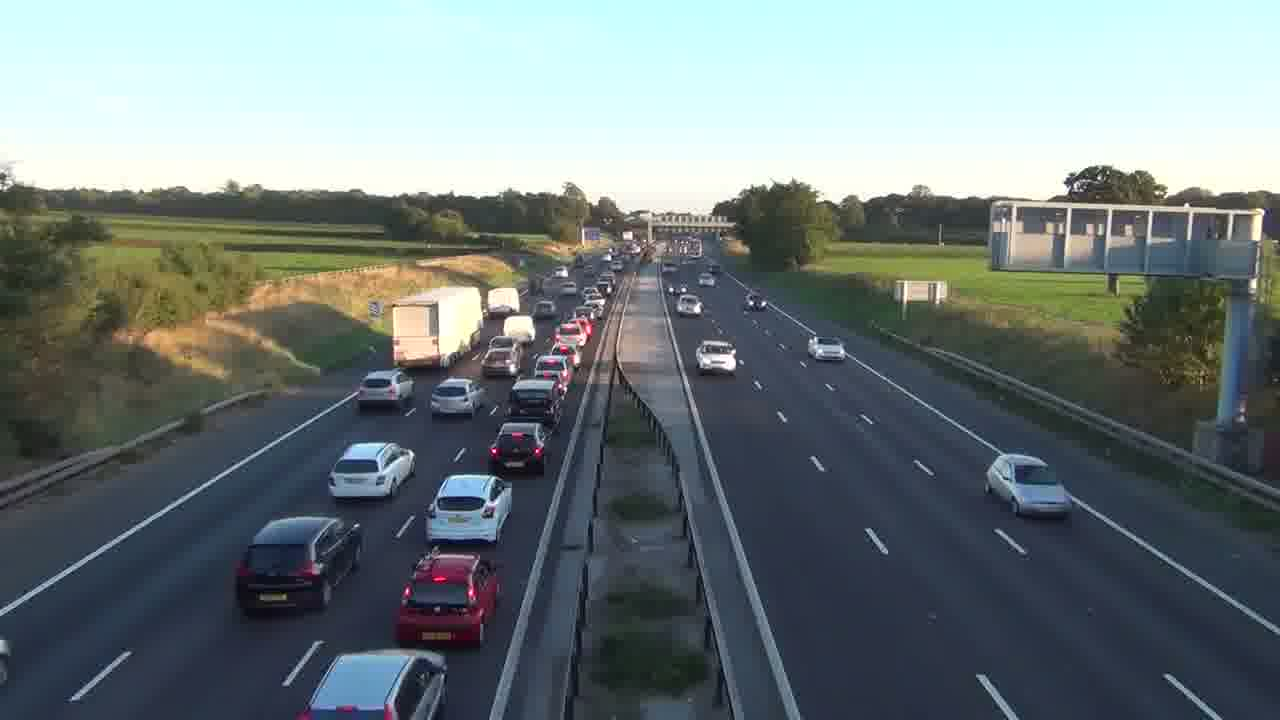car: (234, 514, 364, 615), (295, 649, 449, 719), (391, 552, 500, 648), (423, 472, 514, 545), (985, 452, 1074, 520), (327, 440, 416, 500), (488, 421, 547, 475), (356, 368, 416, 412), (430, 377, 484, 419), (808, 337, 847, 362)
truck: (391, 285, 483, 369), (487, 287, 521, 317)
